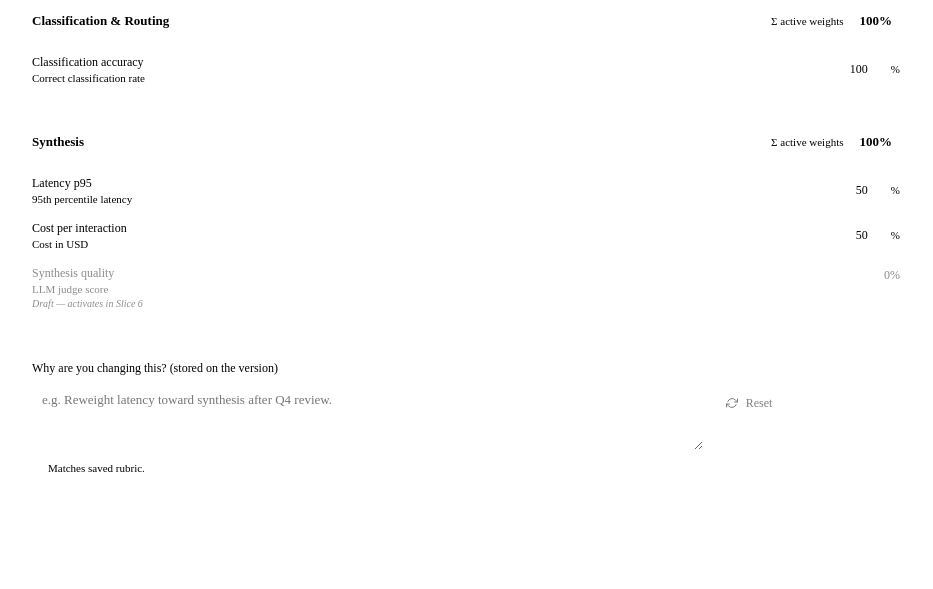
Test: RubricEditor › POSTs to preview-impact after debounce and renders impact-preview-tier_3 with ranking-change-row
This screenshot has width=933, height=589.
Replace the text in the number field with test id "weight-input-tier_3.latency_p95" with "40": (857, 190) [827,176,887,204]
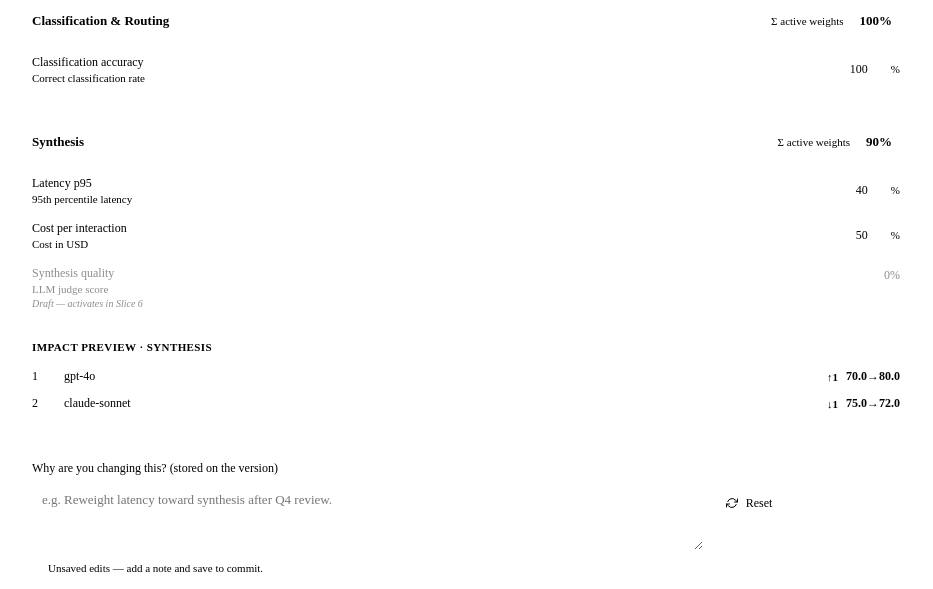
Expected: the element with test id "impact-preview-tier_3" is shown, [16,329,916,429]
Expected: the element with test id "ranking-change-row" showing "1 gpt-4o ↑1 70.0→80.0" is shown, [32,369,900,383]
